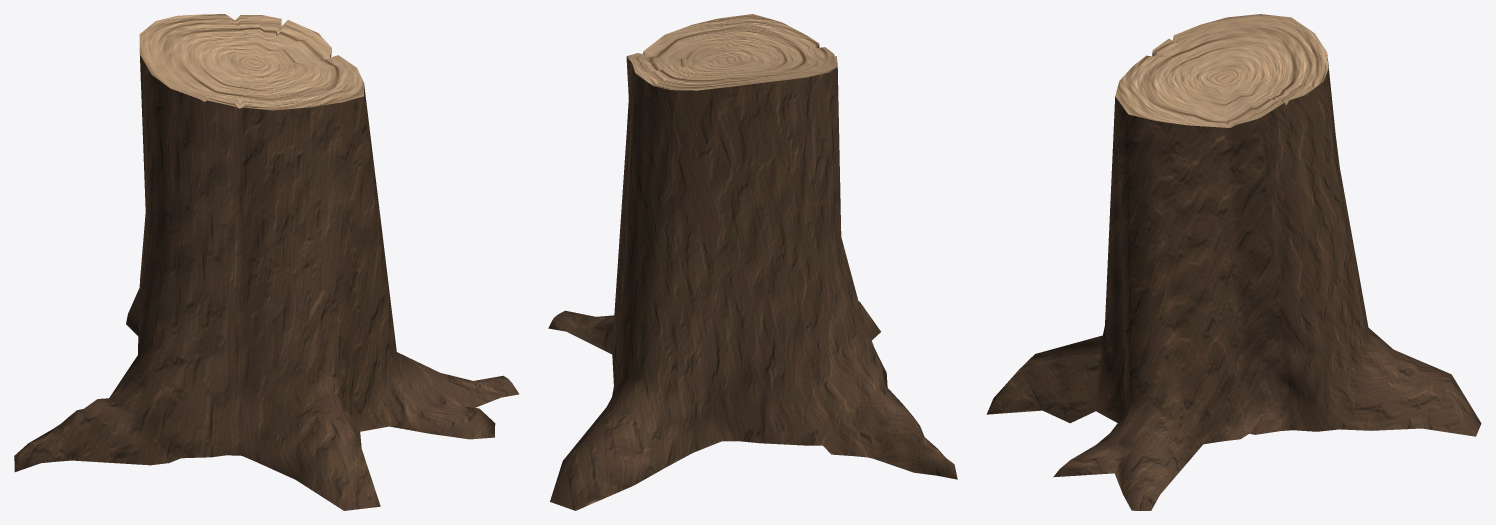
The model's file is TreeStump.fbx.
3 views of the same model, side by side, from view 1: azimuth 30°, elevation 25°; view 2: azimuth 150°, elevation 25°; view 3: azimuth 270°, elevation 25° (orthographic). The views are drawn at different scales.
Parts seen in each view (by area): view 1: pCylinder1; view 2: pCylinder1; view 3: pCylinder1.
Boxes of the visible parts, x1,y1,x2,y2 form: pCylinder1: [14, 14, 518, 510]; pCylinder1: [548, 14, 957, 510]; pCylinder1: [986, 14, 1481, 510].
Bounding box in the file's own units: 9.44 × 7.59 × 9.39.
Materials: 1 (1 with a texture image).
